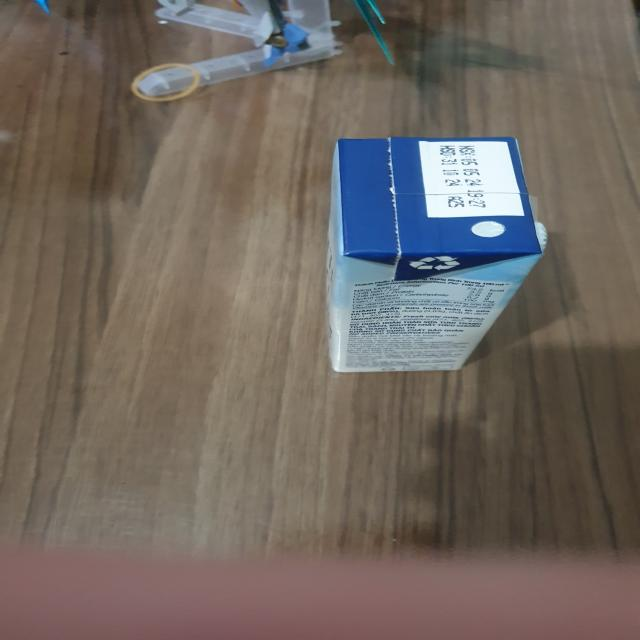TH: (327, 138, 546, 376)
